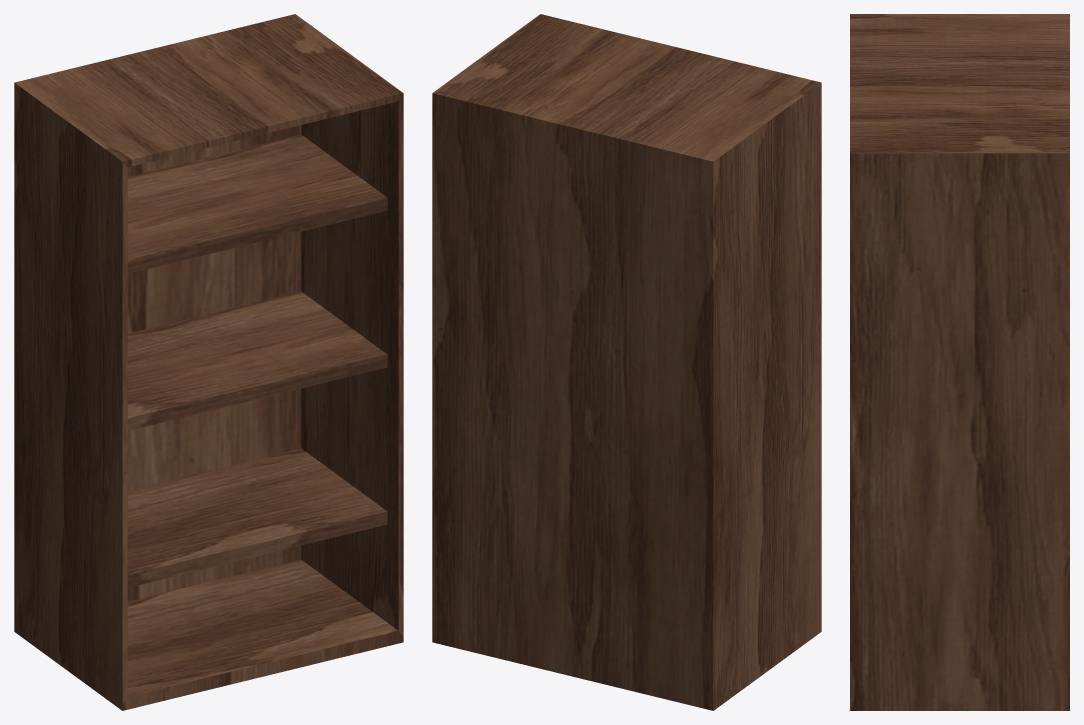
Rendered from Displaycabinet.fbx.
3 renders of one model, left to right at view 1: azimuth 30°, elevation 25°; view 2: azimuth 150°, elevation 25°; view 3: azimuth 270°, elevation 25°, orthographic.
Parts seen in each view (by area): view 1: pCube1; view 2: pCube1; view 3: pCube1.
Part boxes in pixels (x1,y1,x2,y2): pCube1: [14, 14, 403, 710]; pCube1: [432, 14, 821, 710]; pCube1: [850, 14, 1069, 710].
Bounding box in the file's own units: 150 × 280 × 100.
